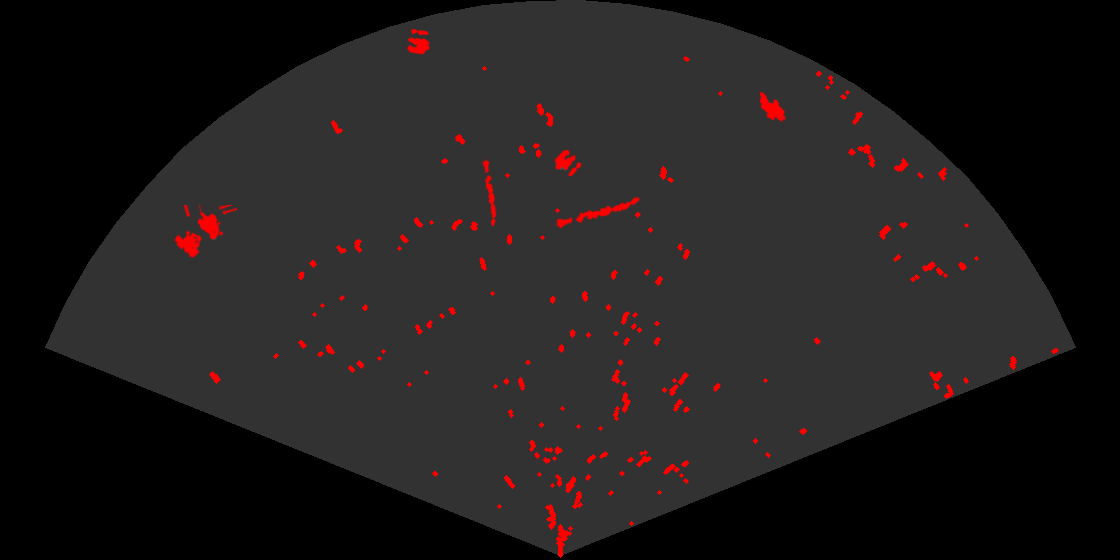AUV: (758, 90, 787, 123)
ball: (553, 148, 583, 178), (405, 27, 432, 56)
cage: (173, 205, 237, 260)
chain: (553, 195, 642, 230), (481, 157, 498, 228)
